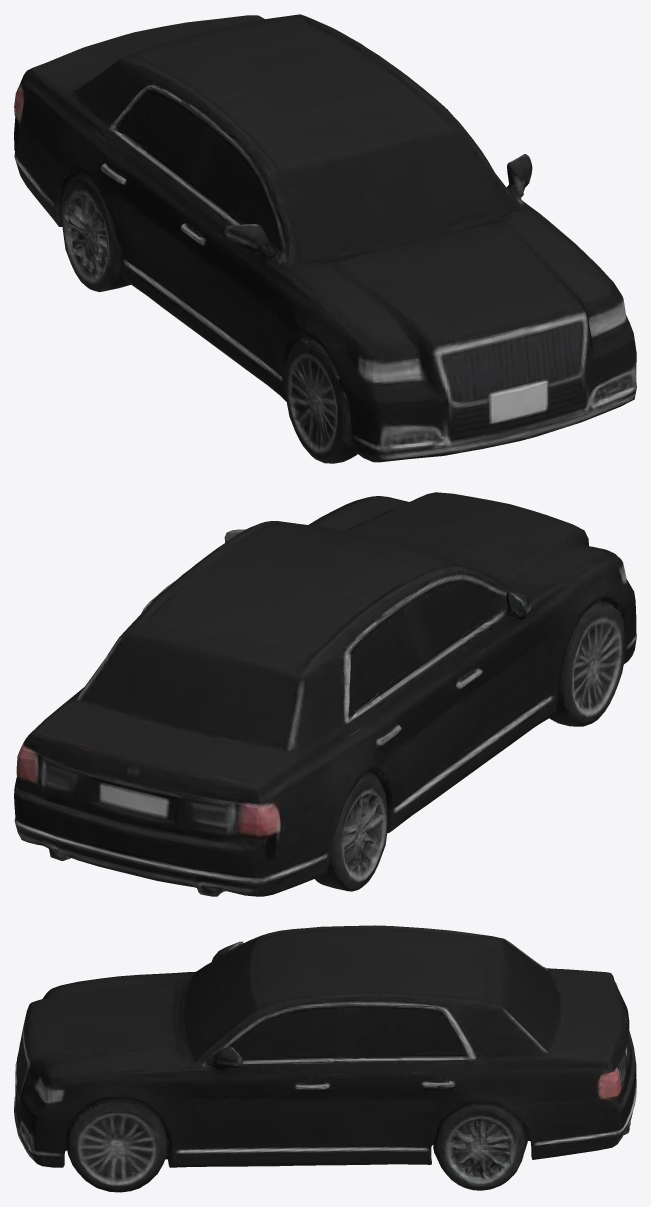
File: car_sedan.glb
3 renders of one model, top to bottom at view 1: azimuth 30°, elevation 25°; view 2: azimuth 150°, elevation 25°; view 3: azimuth 270°, elevation 25°, orthographic. The views are drawn at different scales.
Visible parts, largest first — view 1: geometry_0; view 2: geometry_0; view 3: geometry_0.
Boxes of the visible parts, bbox=[...] form: geometry_0: bbox=[14, 14, 636, 463]; geometry_0: bbox=[14, 492, 636, 896]; geometry_0: bbox=[14, 925, 636, 1192].
Bounding box in the file's own units: 0.4442 × 0.3228 × 1.
1 material, 1 textured.
